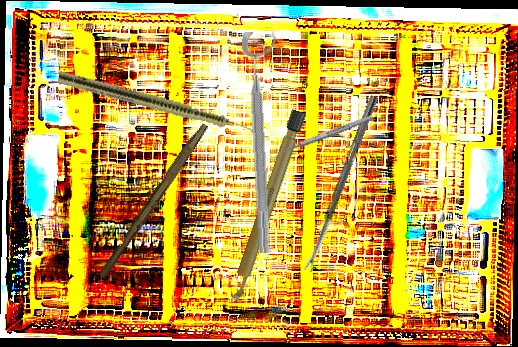Fixation Ring: (241, 30, 289, 254)
Handpiece: (56, 70, 263, 140)
Scalpel Handle: (97, 119, 209, 282), (225, 108, 307, 306)
Surgical Spoon: (302, 94, 379, 273), (269, 113, 374, 160)
